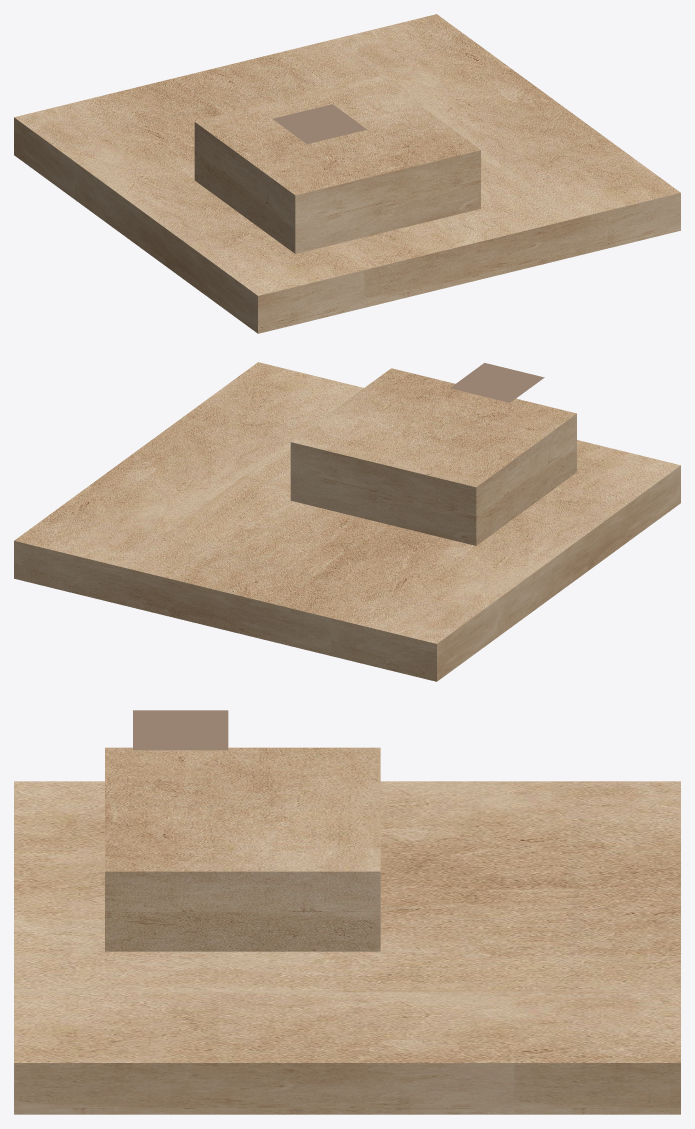
File: House_Simple_LR.glb
3 views of the same model, one above another, from view 1: azimuth 30°, elevation 25°; view 2: azimuth 150°, elevation 25°; view 3: azimuth 270°, elevation 25° (orthographic). The views are drawn at different scales.
Parts seen in each view (by area): view 1: house_simple.lr; view 2: house_simple.lr; view 3: house_simple.lr.
Boxes of the visible parts, x1,y1,x2,y2 form: house_simple.lr: (14,14,680,333); house_simple.lr: (14,362,680,681); house_simple.lr: (14,710,680,1114).
Bounding box in the file's own units: 50 × 15.25 × 50.
Materials: 2 (1 with a texture image).
